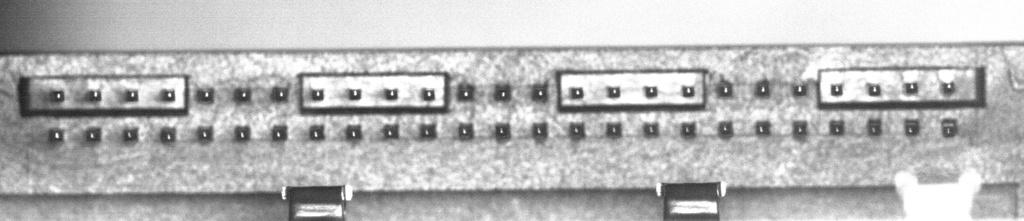pin_ok: (940, 118, 958, 137), (456, 83, 474, 101), (233, 86, 252, 102), (904, 118, 921, 135), (531, 84, 548, 101), (271, 85, 288, 102), (716, 80, 733, 97), (494, 84, 511, 101), (867, 118, 883, 135), (495, 123, 511, 140), (382, 123, 399, 139), (271, 124, 287, 141), (308, 124, 325, 140), (457, 123, 474, 139), (159, 127, 176, 143), (196, 87, 214, 102), (792, 120, 808, 136), (755, 120, 771, 136), (345, 124, 361, 140), (234, 125, 250, 141), (419, 123, 435, 139), (569, 122, 585, 138), (755, 80, 770, 97), (829, 119, 844, 135), (606, 122, 622, 137), (532, 122, 547, 138), (718, 121, 733, 137), (643, 121, 659, 136), (792, 82, 808, 97), (196, 126, 212, 141), (48, 128, 64, 143), (85, 127, 101, 142), (681, 122, 696, 137), (940, 80, 956, 94), (123, 127, 139, 141), (904, 80, 919, 94), (681, 84, 695, 98), (422, 87, 436, 101), (867, 83, 882, 96), (161, 88, 176, 101), (569, 86, 584, 99), (606, 85, 621, 98), (50, 89, 65, 102), (644, 85, 658, 98), (310, 88, 324, 101), (830, 83, 843, 96), (125, 88, 138, 101), (348, 88, 362, 100), (385, 88, 399, 100), (87, 89, 101, 101)
